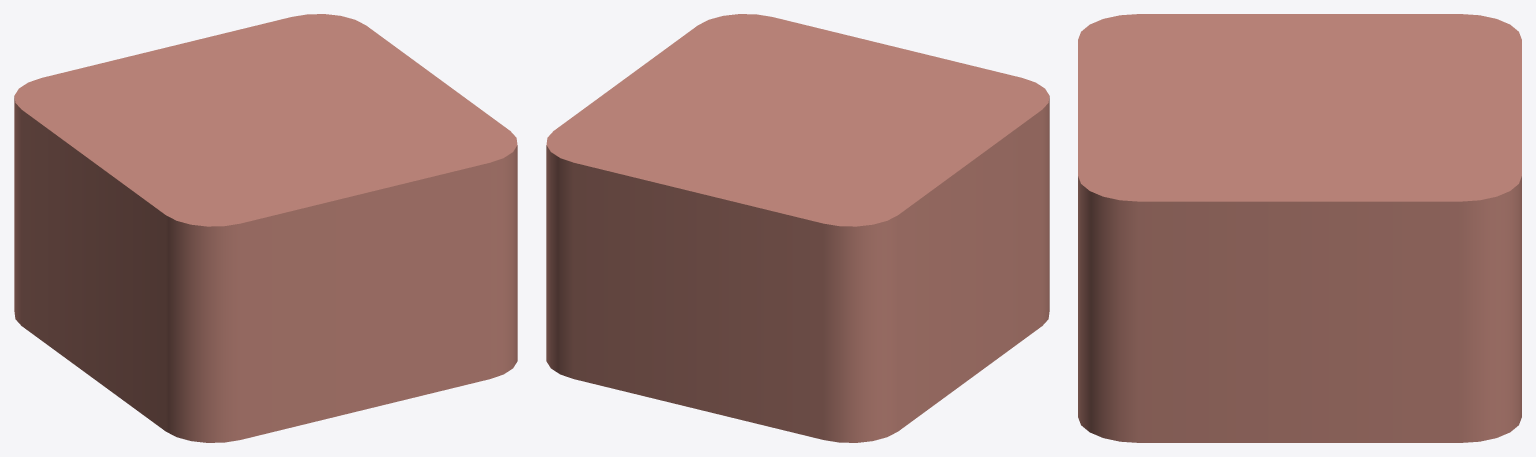
File: RoundedTowerSmall01_10x10x6.fbx
3 views of the same model, side by side, from view 1: azimuth 30°, elevation 25°; view 2: azimuth 150°, elevation 25°; view 3: azimuth 270°, elevation 25° (orthographic). The views are drawn at different scales.
Visible parts, largest first — view 1: RoundedTowerSmall01.002; view 2: RoundedTowerSmall01.002; view 3: RoundedTowerSmall01.002.
Boxes of the visible parts, <box> form: RoundedTowerSmall01.002: <box>14,14,517,442</box>; RoundedTowerSmall01.002: <box>546,14,1049,442</box>; RoundedTowerSmall01.002: <box>1078,14,1521,442</box>.
Bounding box in the file's own units: 1000 × 600 × 1000.
